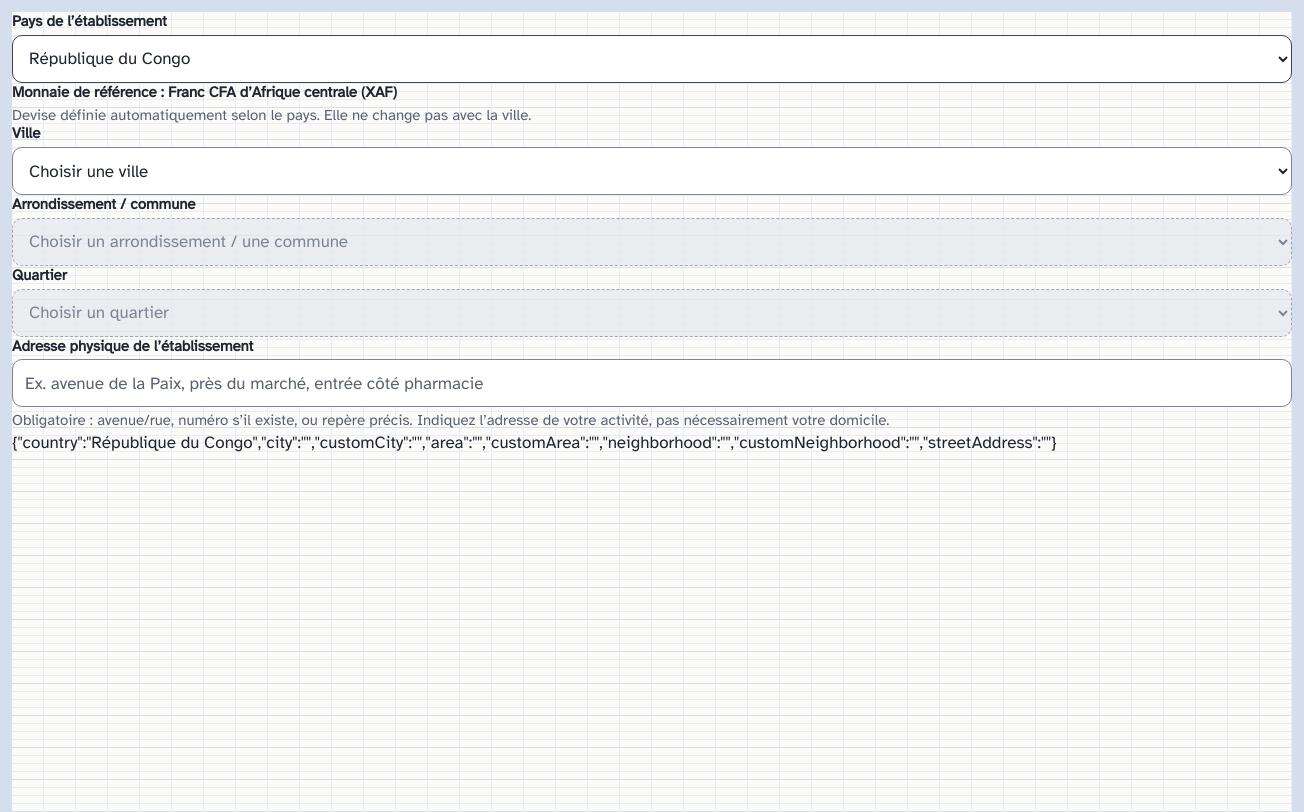
Test: CEMAC business address onboarding › provides truthful manual fallback for towns without a validated list
Select "Dolisie" in the dropdown labelled "Ville" at [652, 171], box [12, 147, 1292, 195]
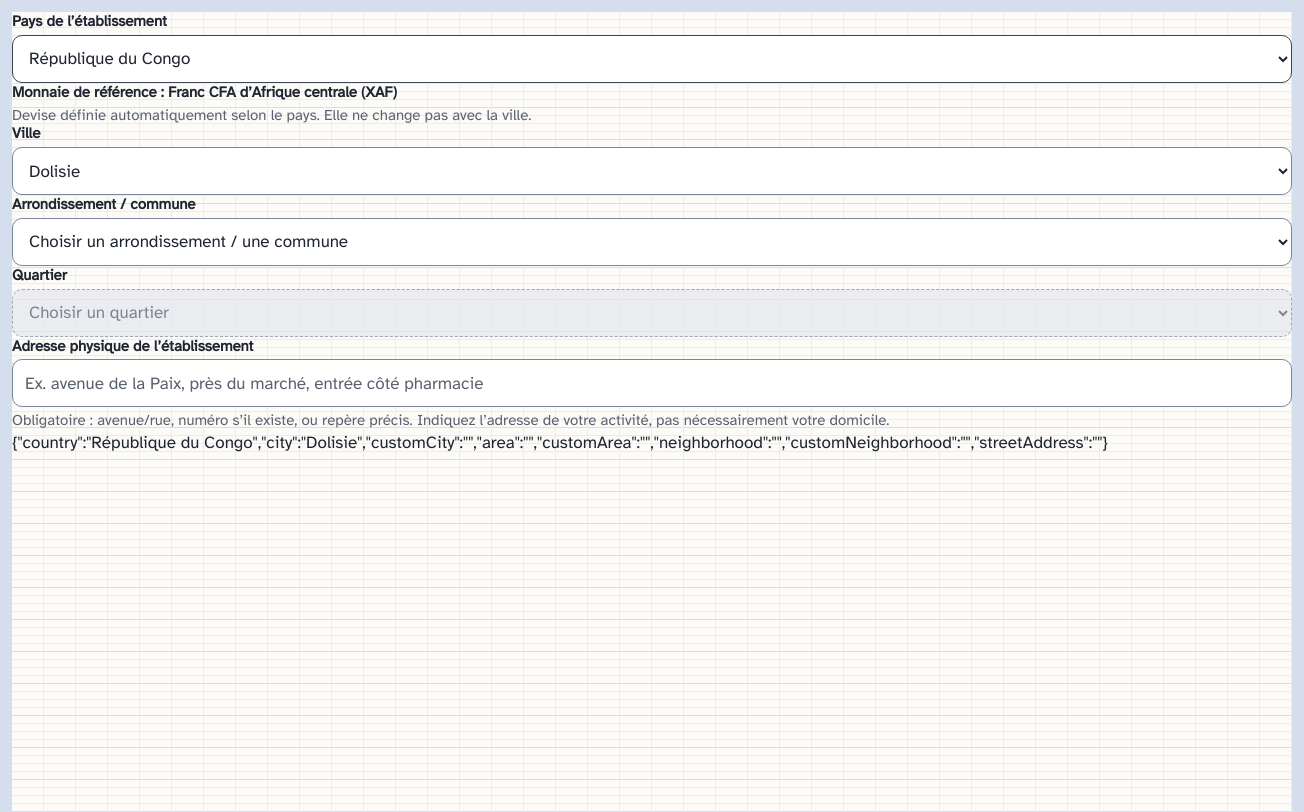
Select "Autre arrondissement / commune" in the dropdown labelled "Arrondissement / commune" at [652, 242], box [12, 218, 1292, 266]
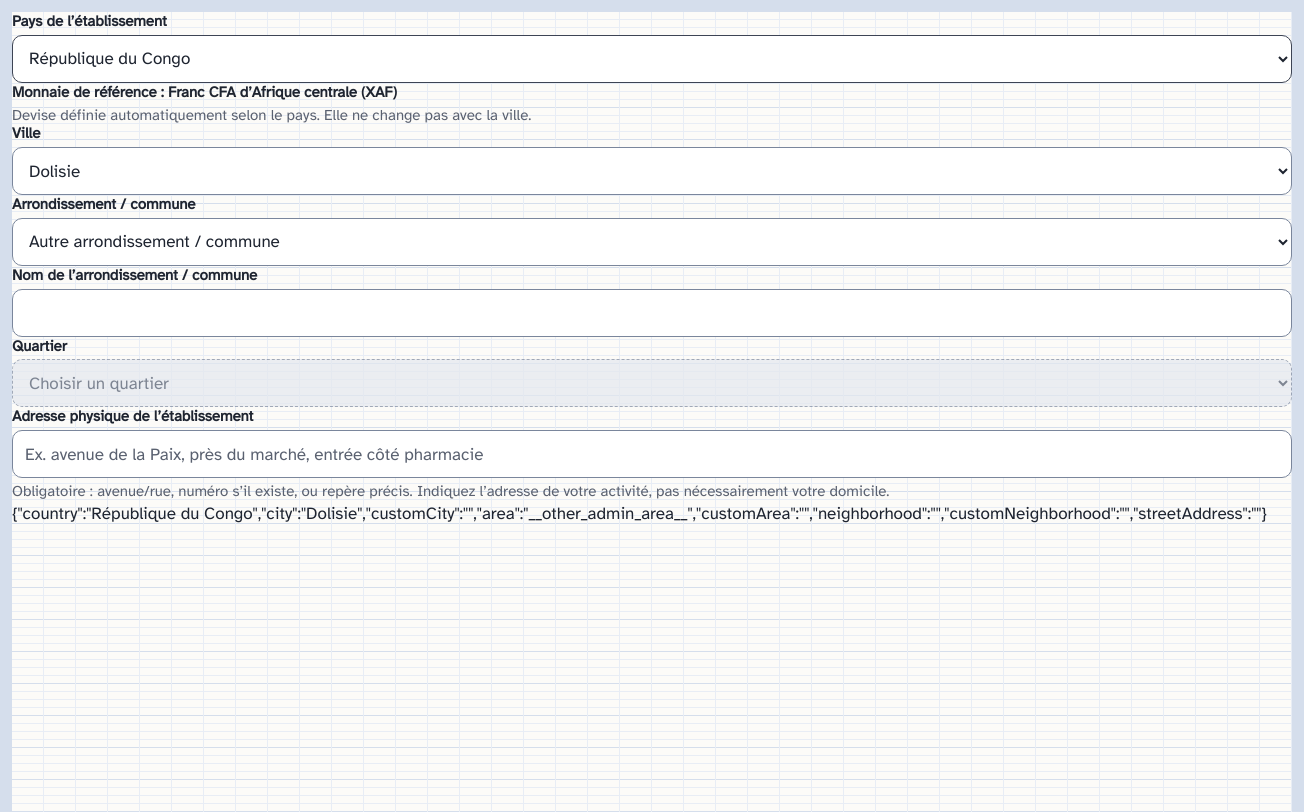
Expected: the field labelled "Nom de l’arrondissement / commune" is shown
Type "Quartier central" into the field labelled "Nom de l’arrondissement / commune" at [652, 312], box [12, 288, 1292, 336]
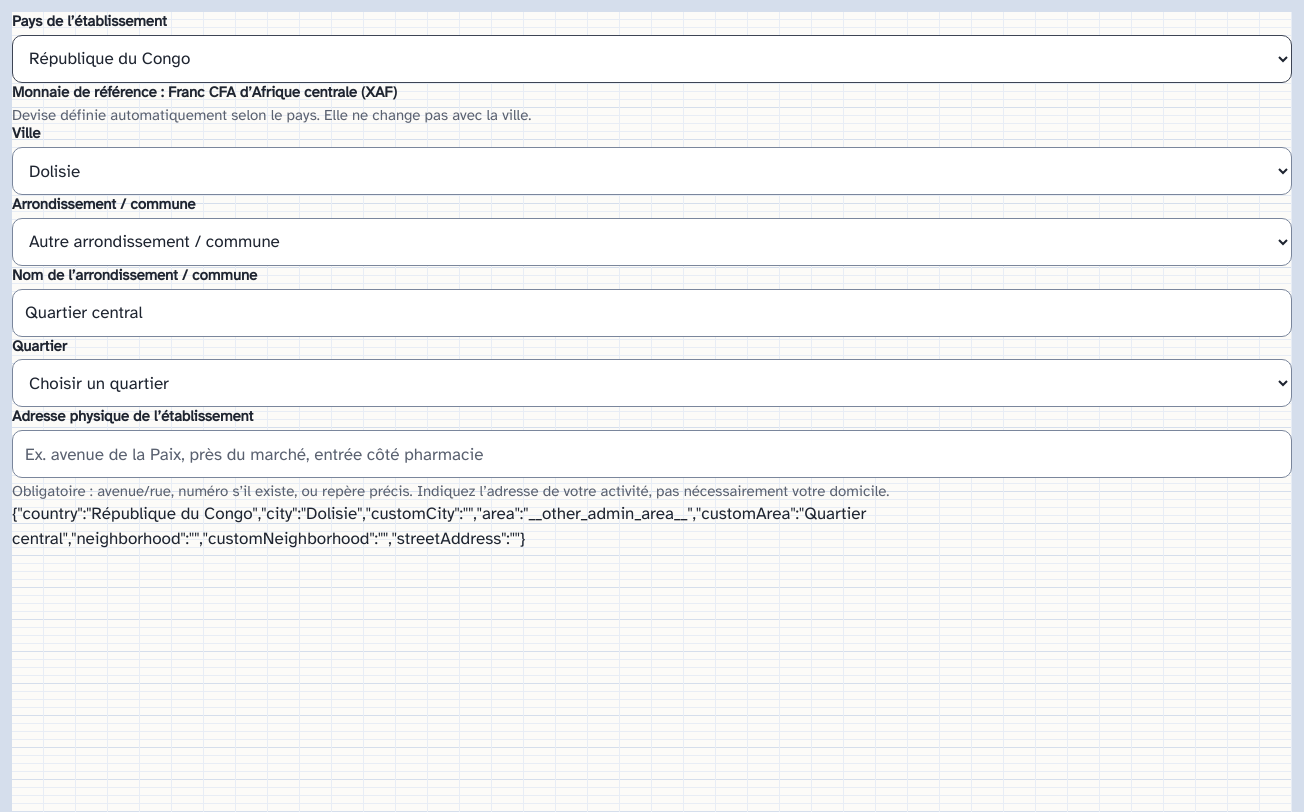
Select "Autre quartier (saisie libre)" in the dropdown labelled "Quartier" at [652, 383], box [12, 359, 1292, 407]
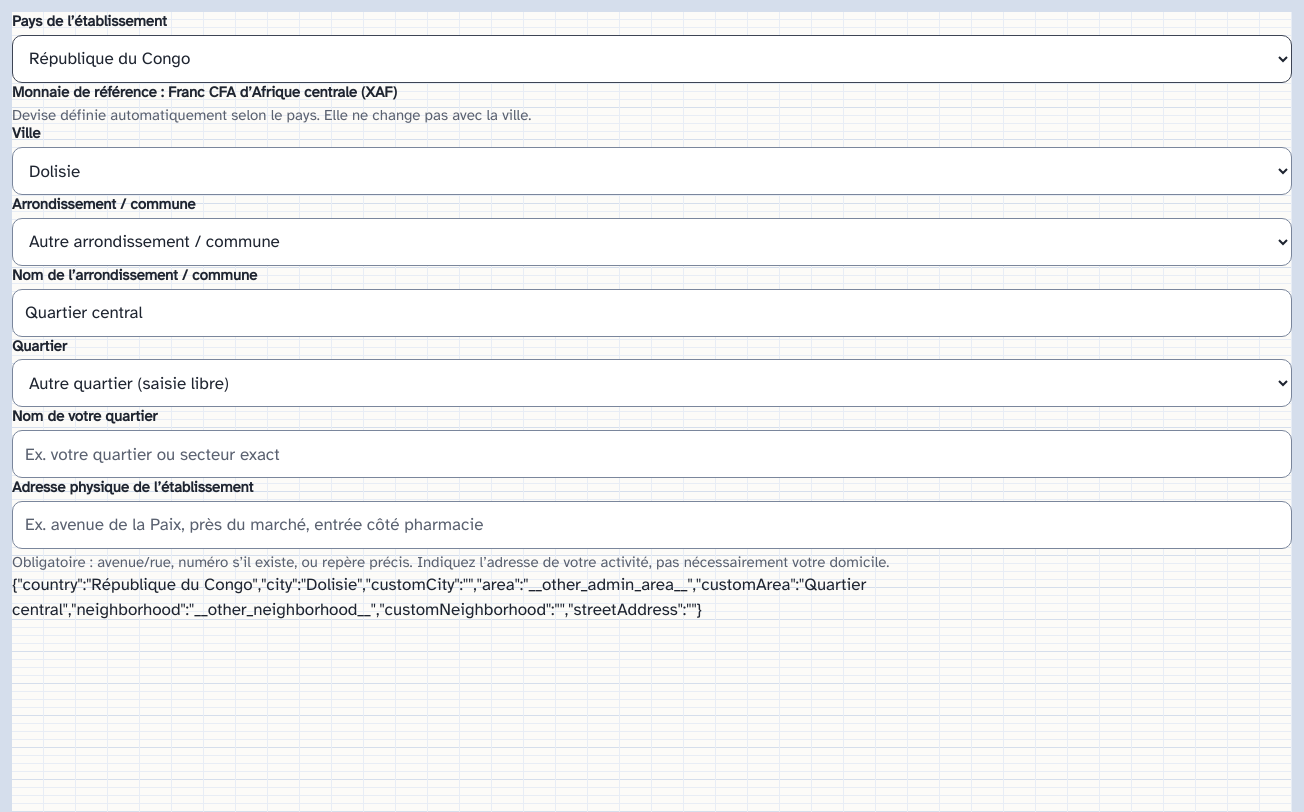
Expected: the field labelled "Nom de votre quartier" is shown, [12, 430, 1292, 478]
